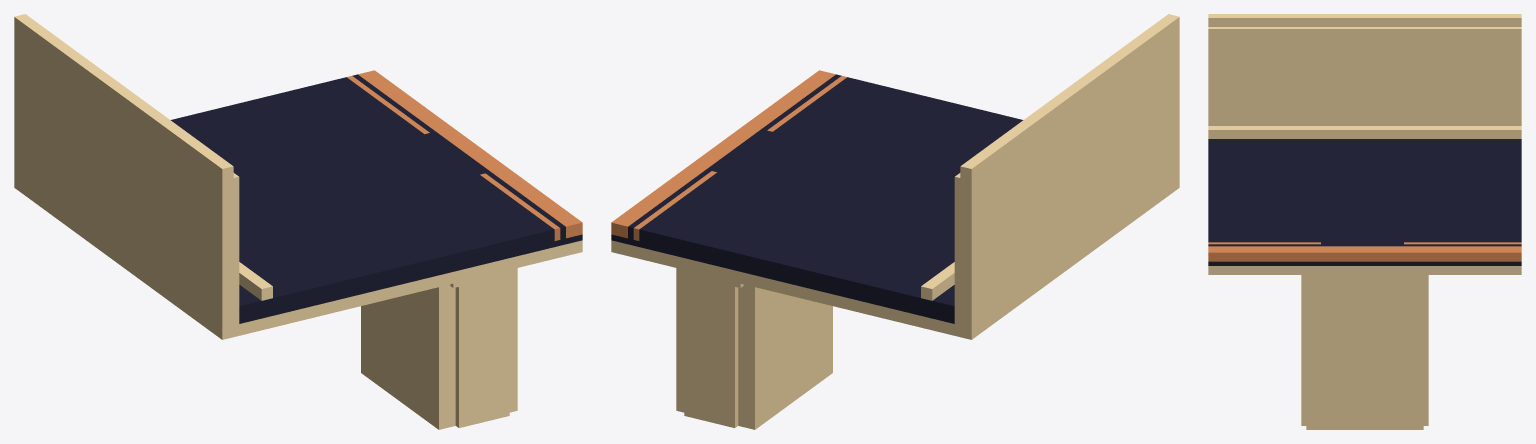
Rendered from expressway_fl.obj.
3 renders of one model, left to right at view 1: azimuth 30°, elevation 25°; view 2: azimuth 150°, elevation 25°; view 3: azimuth 270°, elevation 25°, orthographic. The views are drawn at different scales.
Bounding box in the file's own units: 6.4 × 6.4 × 6.4.
Materials: 1 (1 with a texture image).
